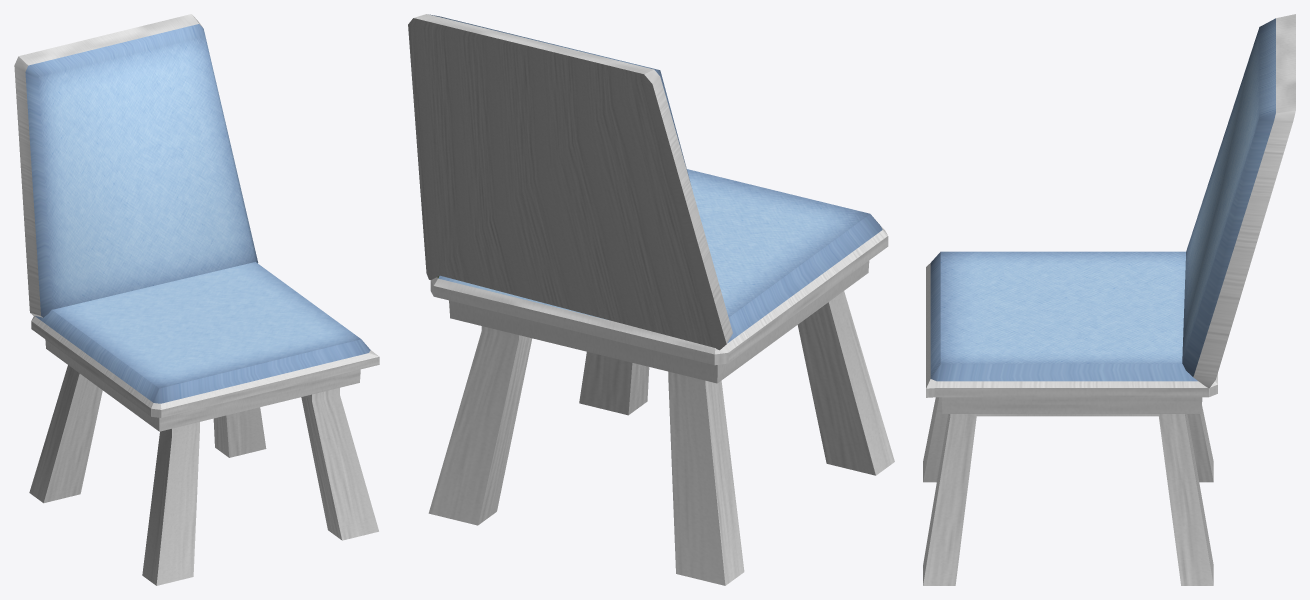
Rendered from Dining_Room_Chair_C_2.FBX.
3 views of the same model, side by side, from view 1: azimuth 30°, elevation 25°; view 2: azimuth 150°, elevation 25°; view 3: azimuth 270°, elevation 25° (orthographic). The views are drawn at different scales.
Visible parts, largest first — view 1: Dining_Chair; view 2: Dining_Chair; view 3: Dining_Chair.
Boxes of the visible parts, x1=… form: Dining_Chair: x1=14, y1=14, x2=379, y2=585; Dining_Chair: x1=408, y1=14, x2=894, y2=585; Dining_Chair: x1=923, y1=14, x2=1295, y2=585.
Bounding box in the file's own units: 121 × 208 × 152.
